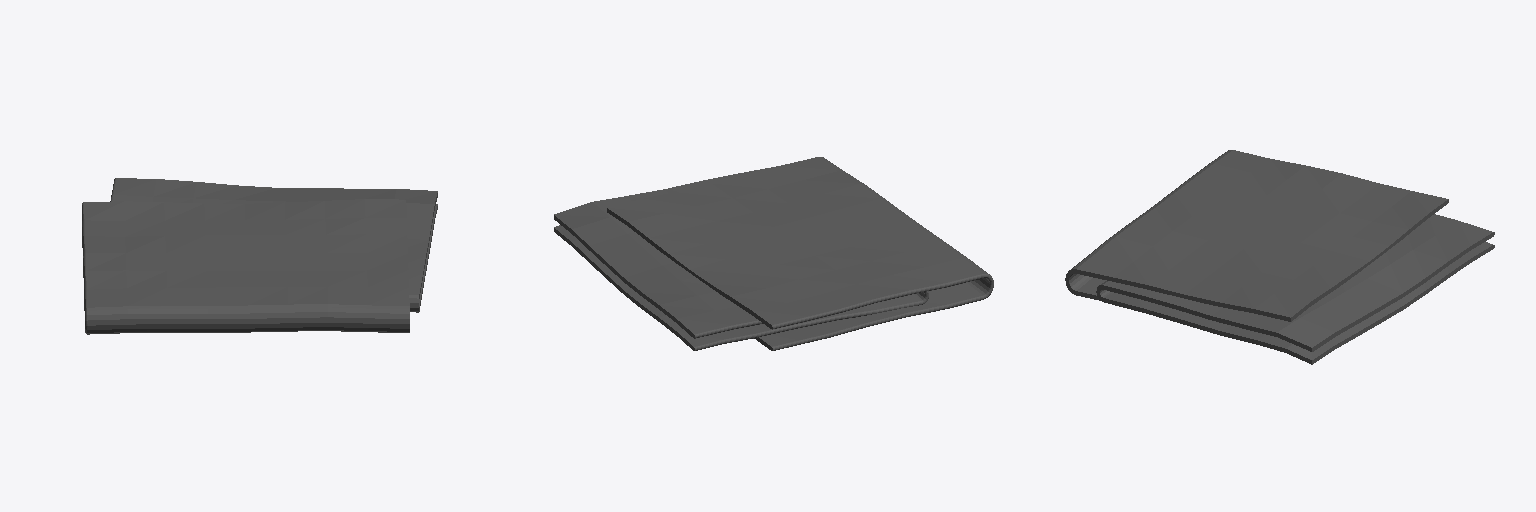
The model's file is paper.obj.
The picture shows the model from 3 angles: view 1: azimuth 30°, elevation 25°; view 2: azimuth 150°, elevation 25°; view 3: azimuth 270°, elevation 25°; orthographic projection.
Visible parts, largest first — view 1: newspaper; view 2: newspaper; view 3: newspaper.
Boxes of the visible parts, x1=… form: newspaper: x1=82, y1=178, x2=437, y2=334; newspaper: x1=554, y1=157, x2=993, y2=350; newspaper: x1=1065, y1=150, x2=1494, y2=364.
Size of the model in its own units: 1.29 by 0.0939 by 1.21.